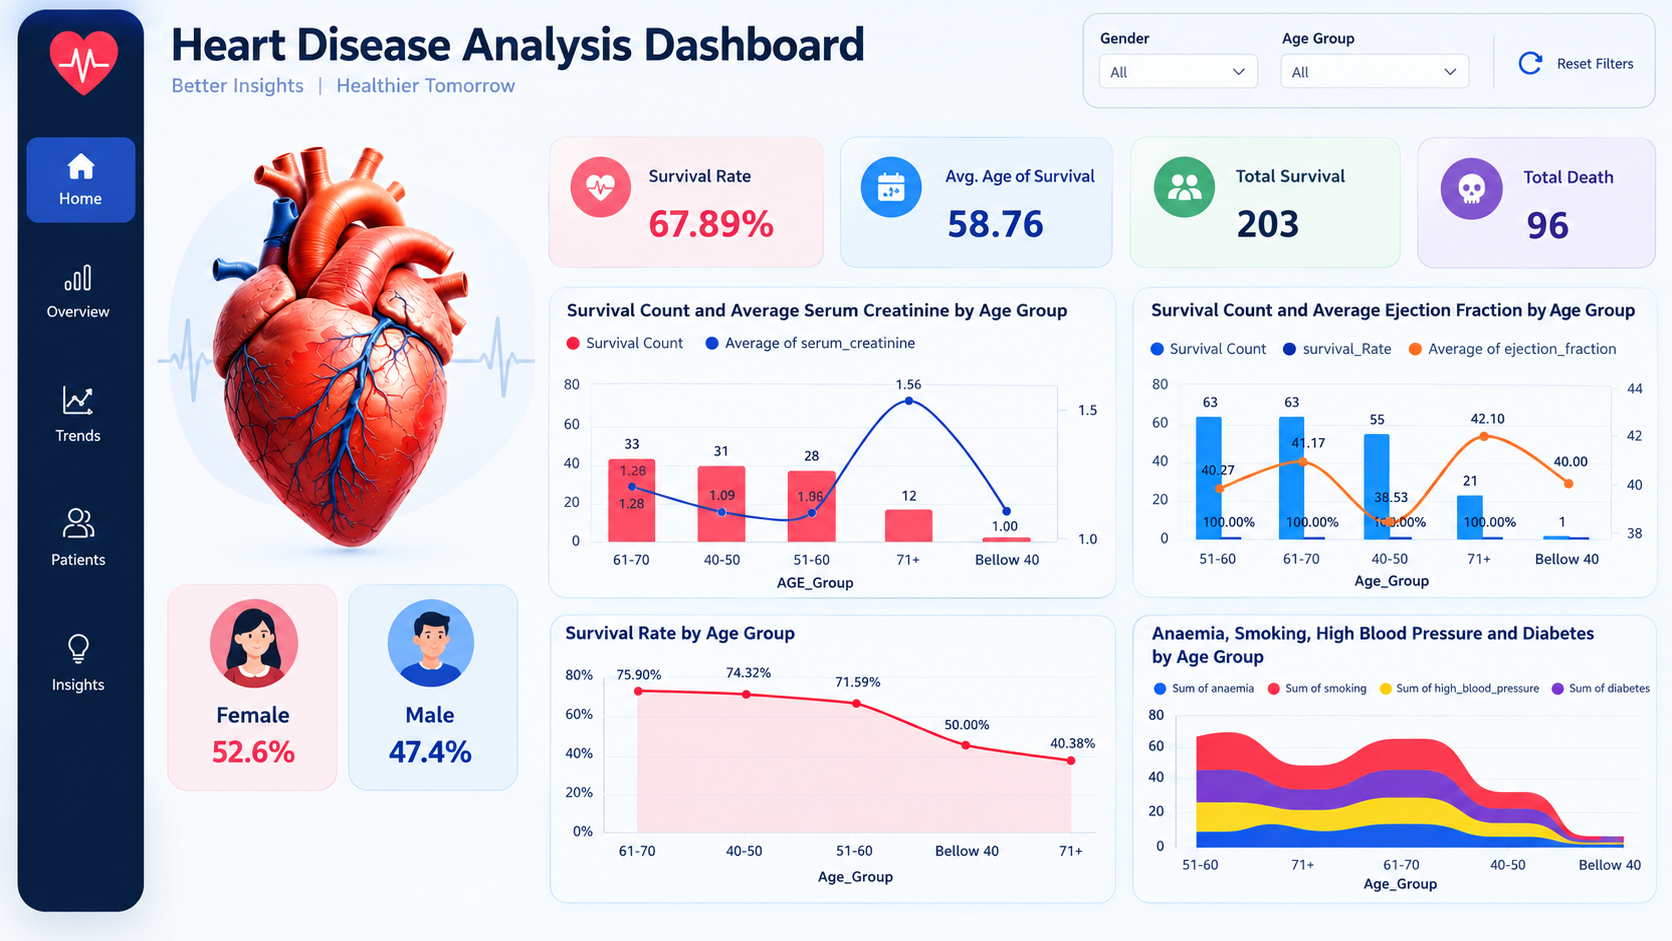

The page's visual inventory and layout, read from the dashboard file:
{"tool":"powerbi","page":{"name":"Page 1","canvas":[1280,720],"ordinal":0},"visuals":[{"type":"card","fields":{"Values":["heart_Disease_.survival_Rate"]},"box":[436.7,71.2,193,130.3],"z":0},{"type":"card","fields":{"Values":["heart_Disease_.Average_Age_Survival"]},"box":[629.8,71.2,209.9,131.5],"z":1000},{"type":"card","fields":{"Values":["heart_Disease_.Total_Surviour"]},"box":[854.2,66.4,193,135.1],"z":2000},{"type":"card","fields":{"Values":["heart_Disease_.Total_Death"]},"box":[1066.5,62.7,196.6,148.4],"z":3000},{"type":"lineStackedColumnComboChart","title":"Survival Count and Average Serum Creatinine by Age Group","fields":{"Y2":["Avg(heart_failure_clinical_records_dataset.serum_creatinine)"],"Y":["CountNonNull(heart_failure_clinical_records_dataset.DEATH_EVENT)"],"Category":["heart_failure_clinical_records_dataset.AGE_Group"]},"box":[452.4,188.2,393.3,240.1],"z":4000},{"type":"lineClusteredColumnComboChart","title":"Survival Count and Average Ejection Fraction by Age Group","fields":{"Category":["heart_Disease_.Age_Group"],"Y":["CountNonNull(heart_Disease_.DEATH_EVENT)","heart_Disease_.survival_Rate"],"Y2":["Avg(heart_Disease_.ejection_fraction)"]},"box":[861.4,187,409,241.3],"z":5000},{"type":"lineChart","fields":{"Category":["heart_Disease_.Age_Group"],"Y":["heart_Disease_.survival_Rate"]},"box":[445.2,446.4,400.5,250.9],"z":6000},{"type":"ribbonChart","title":" Anaemia, Smoking, High Blood Pressure and Diabetes by Age Group","fields":{"Y":["Sum(heart_failure_clinical_records_dataset.anaemia)","Sum(heart_failure_clinical_records_dataset.smoking)","Sum(heart_failure_clinical_records_dataset.high_blood_pressure)","Sum(heart_failure_clinical_records_dataset.diabetes)"],"Category":["heart_failure_clinical_records_dataset.AGE_Group"]},"box":[865,446.4,405.4,250.9],"z":7000},{"type":"advancedSlicerVisual","fields":{"Values":["heart_failure_clinical_records_dataset.Gen"]},"box":[103.8,596,341.4,90.5],"z":8000},{"type":"textbox","box":[472.9,71.2,120.6,36.2],"z":9000},{"type":"textbox","box":[657.5,71.2,173.7,36.2],"z":10000},{"type":"textbox","box":[890.4,71.2,120.6,36.2],"z":11000},{"type":"textbox","box":[1105.1,71.2,120.6,36.2],"z":12000},{"type":"textbox","box":[0,0,621.3,67.6],"z":13000}]}

Visuals, with their boxes in screenshot pixels (x1, y1, x2, y2), scaled from the page's 1280x720 canvas onto the 1672x941 screenshot:
card - heart_Disease_.survival_Rate: [x1=570, y1=93, x2=823, y2=263]
card - heart_Disease_.Average_Age_Survival: [x1=823, y1=93, x2=1097, y2=265]
card - heart_Disease_.Total_Surviour: [x1=1116, y1=87, x2=1368, y2=263]
card - heart_Disease_.Total_Death: [x1=1393, y1=82, x2=1650, y2=276]
"Survival Count and Average Serum Creatinine by Age Group" lineStackedColumnComboChart: [x1=591, y1=246, x2=1105, y2=560]
"Survival Count and Average Ejection Fraction by Age Group" lineClusteredColumnComboChart: [x1=1125, y1=244, x2=1659, y2=560]
lineChart - heart_Disease_.Age_Group x heart_Disease_.survival_Rate: [x1=582, y1=583, x2=1105, y2=911]
" Anaemia, Smoking, High Blood Pressure and Diabetes by Age Group" ribbonChart: [x1=1130, y1=583, x2=1659, y2=911]
advancedSlicerVisual - heart_failure_clinical_records_dataset.Gen: [x1=136, y1=779, x2=582, y2=897]
textbox: [x1=618, y1=93, x2=775, y2=140]
textbox: [x1=859, y1=93, x2=1086, y2=140]
textbox: [x1=1163, y1=93, x2=1321, y2=140]
textbox: [x1=1444, y1=93, x2=1601, y2=140]
textbox: [x1=0, y1=0, x2=812, y2=88]
